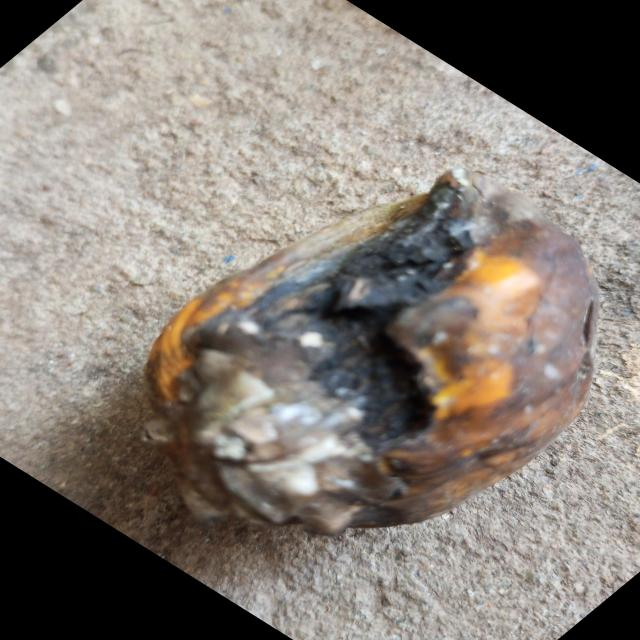damaged: (140, 174, 599, 540)
